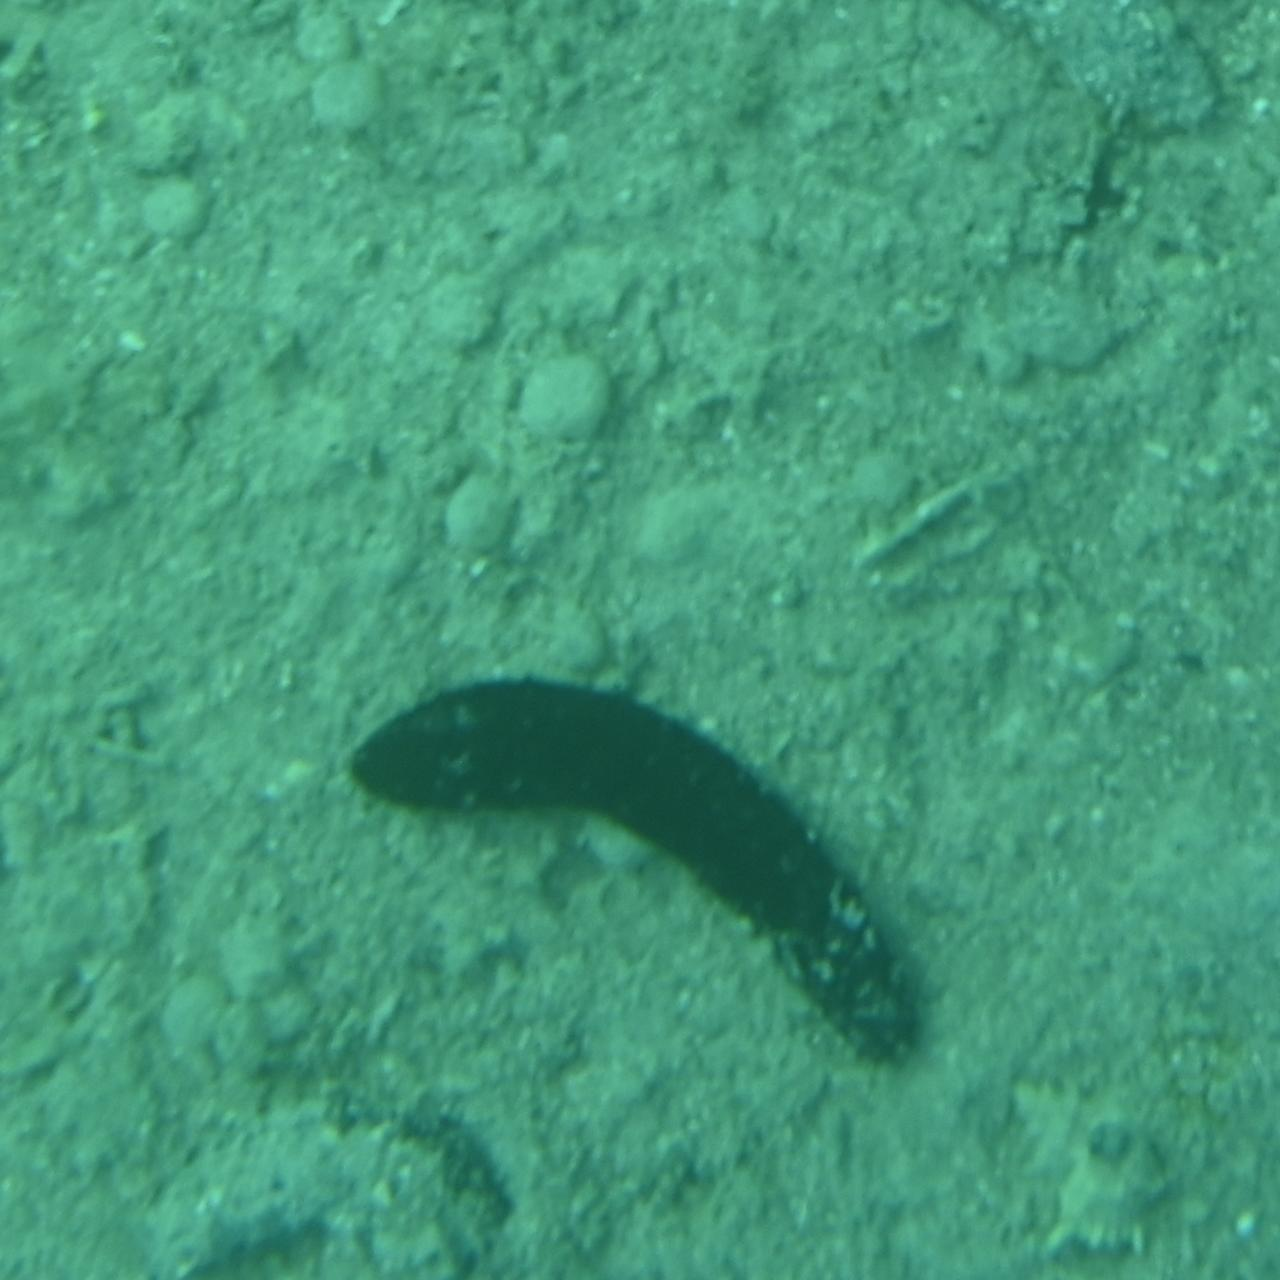Holothuria tubulosa: (329, 676, 933, 1088), (672, 0, 1224, 212), (144, 1055, 522, 1280)
